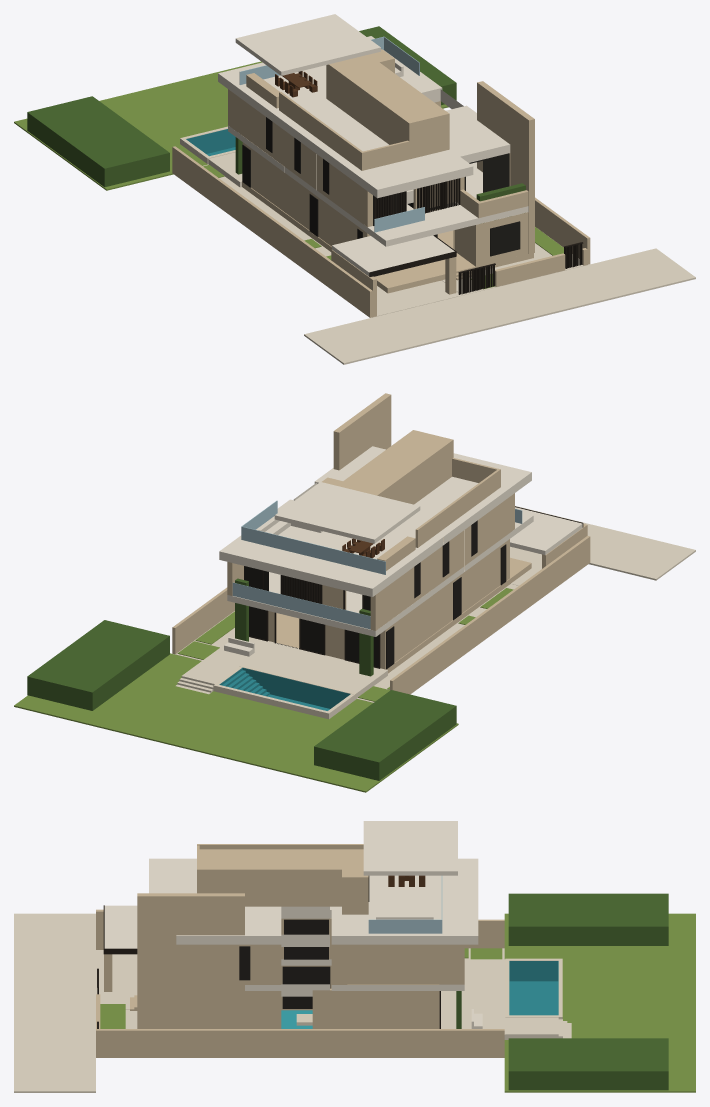
The model's file is villa_v16.glb.
3 views of the same model, one above another, from view 1: azimuth 30°, elevation 25°; view 2: azimuth 150°, elevation 25°; view 3: azimuth 270°, elevation 25° (orthographic). The views are drawn at different scales.
Parts seen in each view (by area): view 1: GROUND_street_verge, HEDGE_context_rear_left, RF_core, CONTEXT_lawn_beyond_plot (NOT PLOT), WALL_side_left, RF_canopy, ROOF_f, STONE_FIN (render-sourced, not on plan), ROOF_r, GF_plinth, CARPORT_canopy (render-sourced, not on plan), SLAB_FF_front_ext (+26 smaller); view 2: CONTEXT_lawn_beyond_plot (NOT PLOT), HEDGE_context_rear_right, HEDGE_context_rear_left, ROOF_r, WALL_side_left, RF_canopy, RF_core, DECK_rear_strip, GROUND_street_verge, STONE_FIN (render-sourced, not on plan), ROOF_f, RF_balustrade_rear (+26 smaller); view 3: CONTEXT_lawn_beyond_plot (NOT PLOT), GROUND_street_verge, WALL_side_right, STONE_FIN (render-sourced, not on plan), HEDGE_context_rear_left, HEDGE_context_rear_right, RF_core, ROOF_r, RF_canopy, FF_rear, FF_front, GF_rear (+23 smaller).
Part boxes in pixels (x1,y1,x2,y2): GROUND_street_verge: (304,248,695,364); HEDGE_context_rear_left: (27,96,169,187); RF_core: (326,54,449,159); CONTEXT_lawn_beyond_plot (NOT PLOT): (14,61,448,190); WALL_side_left: (172,146,372,317); RF_canopy: (235,14,380,75); ROOF_f: (313,129,473,198); STONE_FIN (render-sourced, not on plan): (477,81,534,254); ROOF_r: (218,36,442,133); GF_plinth: (242,182,533,293); CARPORT_canopy (render-sourced, not on plan): (332,235,454,276); SLAB_FF_front_ext: (368,205,528,246); CONTEXT_lawn_beyond_plot (NOT PLOT): (14,653,458,792); HEDGE_context_rear_right: (27,620,169,710); HEDGE_context_rear_left: (314,690,456,780); ROOF_r: (219,499,443,596); WALL_side_left: (390,535,590,694); RF_canopy: (274,482,420,543); RF_core: (337,430,453,504); DECK_rear_strip: (208,637,387,697); GROUND_street_verge: (515,506,695,580); STONE_FIN (render-sourced, not on plan): (333,393,391,470); ROOF_f: (414,453,531,526); RF_balustrade_rear: (241,526,385,574); CONTEXT_lawn_beyond_plot (NOT PLOT): (504,913,695,1092); GROUND_street_verge: (14,913,95,1092); WALL_side_right: (96,1029,504,1057); STONE_FIN (render-sourced, not on plan): (137,893,244,1028); HEDGE_context_rear_left: (508,893,668,945); HEDGE_context_rear_right: (508,1038,668,1090); RF_core: (197,849,363,906); ROOF_r: (331,858,478,944); RF_canopy: (363,821,457,875); FF_rear: (331,944,439,984); FF_front: (184,944,281,984); GF_rear: (347,991,439,1028).
Size of what is drawn, in the model's own units: 30.73 by 13.05 by 49.89.
